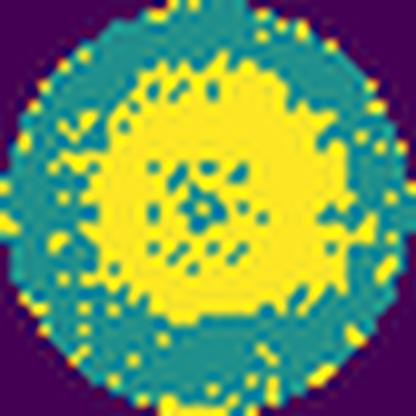Center: (80, 57, 348, 322)
